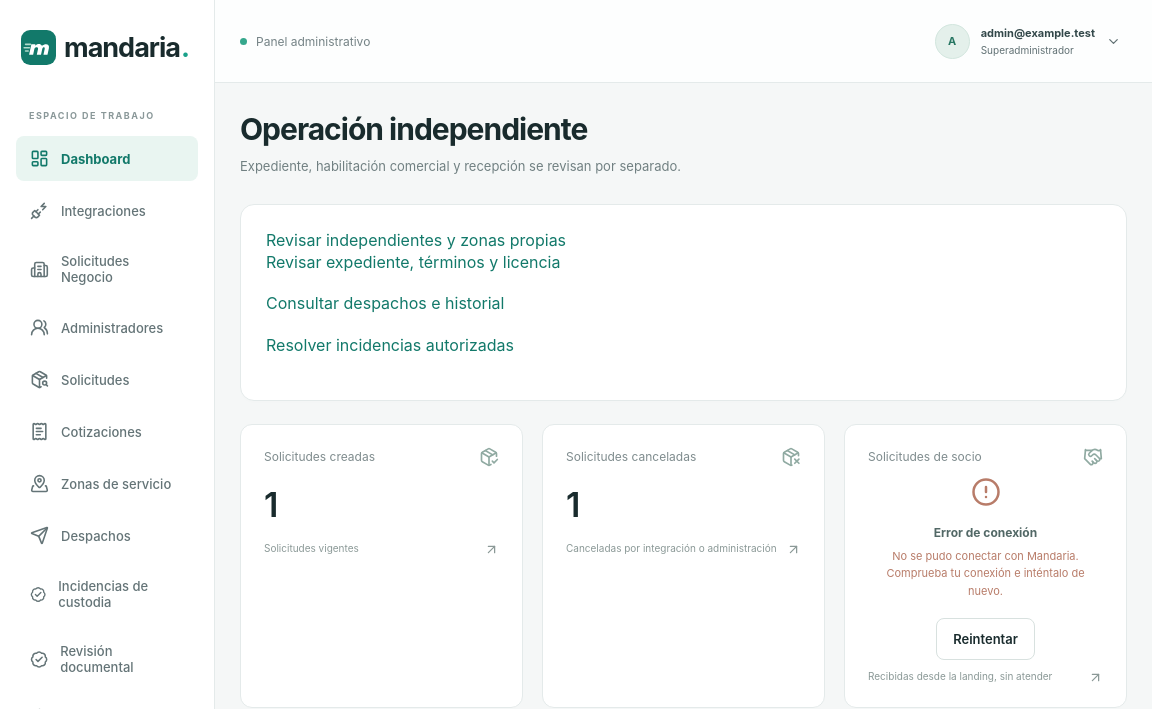
Scenario: quote list › opens from the menu with translated statuses, price, distance and duration
Step 1. Click the link "Cotizaciones" → click(86, 432), box x1=30 y1=422 x2=142 y2=441
(page scrolled)
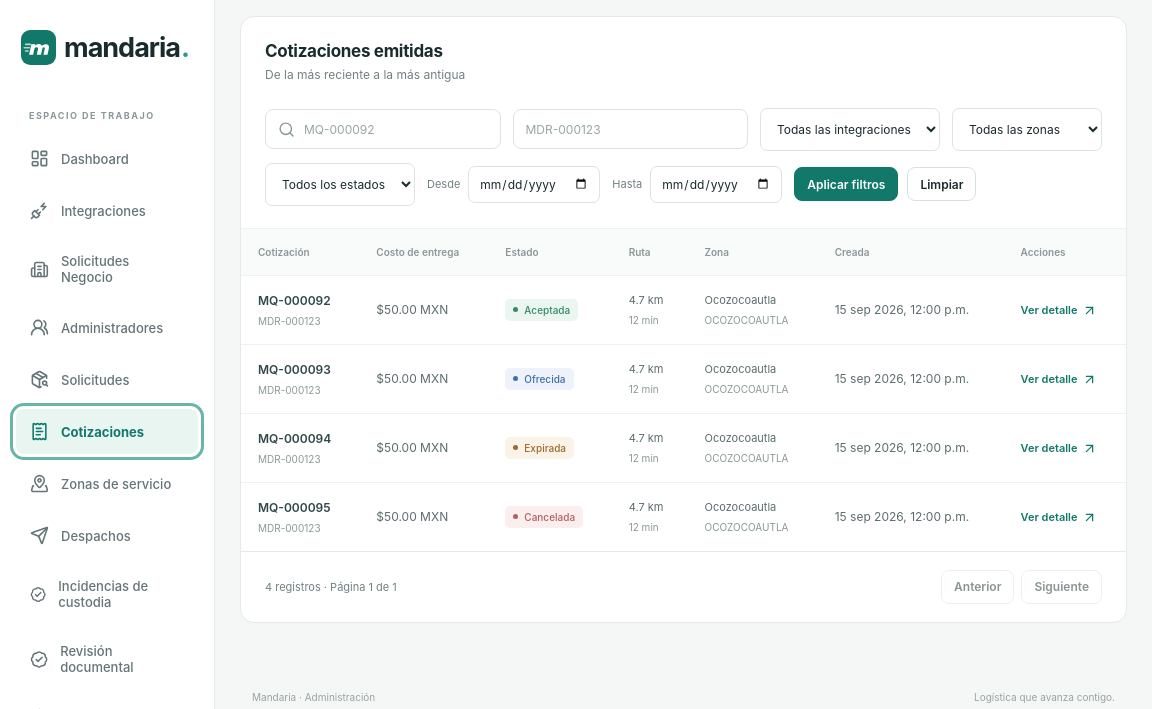
Check: the row that starts with "MQ-000092" is shown, box x1=258 y1=293 x2=342 y2=327
Check: the row that starts with "MQ-000092" shows "MDR-000123", box x1=258 y1=293 x2=342 y2=327
Check: the row that starts with "MQ-000092" shows "$50.00 MXN", box x1=376 y1=302 x2=448 y2=318
